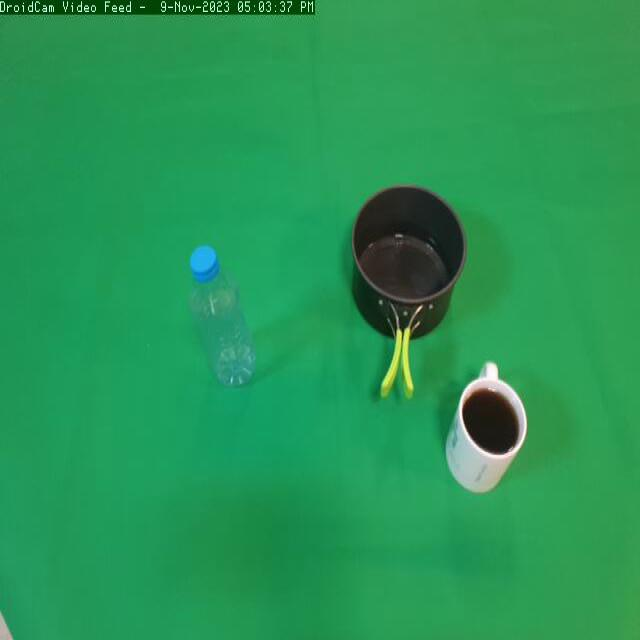bottle: (180, 227, 273, 432)
fullcup: (441, 354, 535, 528)
pot: (346, 179, 473, 409)
